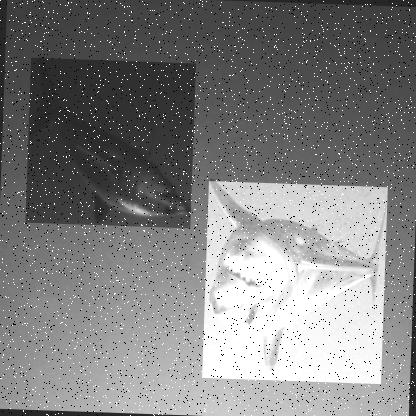mako-shark: (202, 180, 389, 384), (26, 56, 198, 228)
